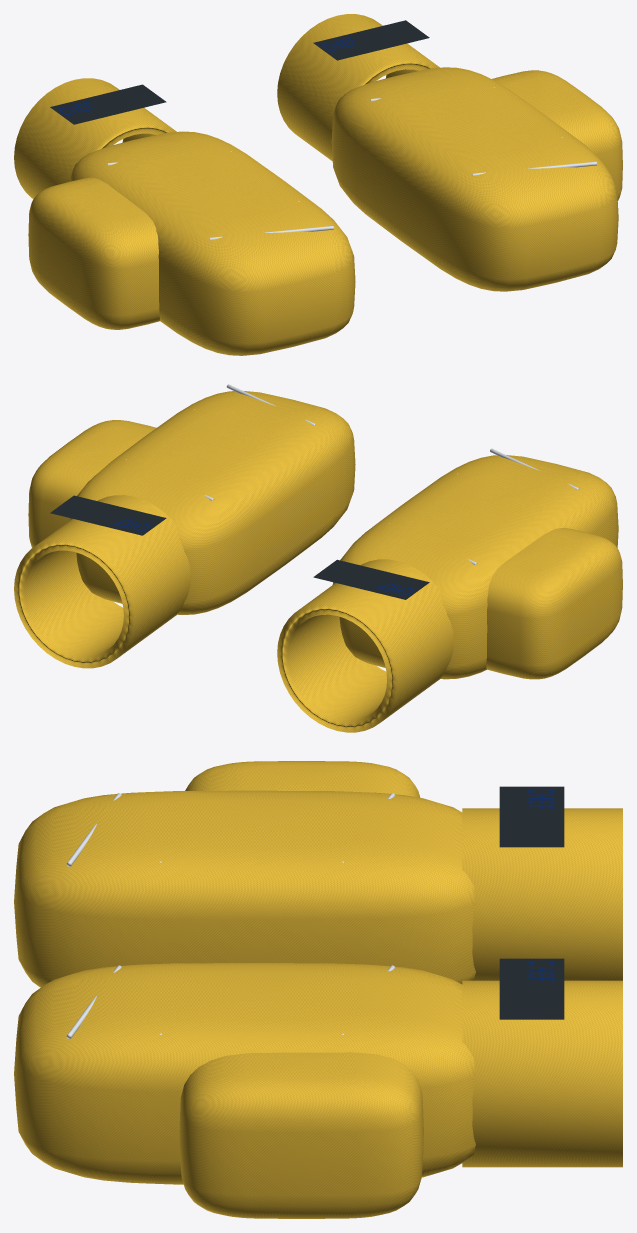
File: oven_mitts.glb
3 renders of one model, top to bottom at view 1: azimuth 30°, elevation 25°; view 2: azimuth 150°, elevation 25°; view 3: azimuth 270°, elevation 25°, orthographic. The views are drawn at different scales.
Visible parts, largest first — view 1: Right_Mitten_Palm, Left_Mitten_Palm, Left_Mitten_Thumb, Right_Cuff, Left_Cuff, Right_Mitten_Thumb, Left_Cuff_Tag, Right_Cuff_Tag; view 2: Right_Mitten_Palm, Left_Mitten_Palm, Right_Cuff, Left_Cuff, Left_Mitten_Thumb, Right_Mitten_Thumb, Left_Cuff_Tag, Right_Cuff_Tag; view 3: Left_Mitten_Palm, Right_Mitten_Palm, Right_Mitten_Thumb, Right_Cuff, Left_Cuff, Left_Mitten_Thumb, Right_Cuff_Tag, Left_Cuff_Tag.
Boxes of the visible parts, left/top/right/bottom form: Right_Mitten_Palm: left=331, top=67, right=618, bottom=291; Left_Mitten_Palm: left=70, top=131, right=355, bottom=355; Left_Mitten_Thumb: left=28, top=177, right=159, bottom=329; Right_Cuff: left=277, top=14, right=439, bottom=160; Left_Cuff: left=14, top=78, right=176, bottom=198; Right_Mitten_Thumb: left=492, top=70, right=622, bottom=200; Left_Cuff_Tag: left=50, top=84, right=166, bottom=124; Right_Cuff_Tag: left=313, top=20, right=429, bottom=60; Right_Mitten_Palm: left=69, top=391, right=355, bottom=614; Left_Mitten_Palm: left=332, top=455, right=618, bottom=679; Right_Cuff: left=14, top=495, right=190, bottom=668; Left_Cuff: left=277, top=559, right=453, bottom=732; Left_Mitten_Thumb: left=486, top=527, right=622, bottom=679; Right_Mitten_Thumb: left=28, top=420, right=156, bottom=547; Left_Cuff_Tag: left=313, top=559, right=429, bottom=599; Right_Cuff_Tag: left=50, top=495, right=166, bottom=535; Left_Mitten_Palm: left=14, top=790, right=475, bottom=987; Right_Mitten_Palm: left=14, top=963, right=475, bottom=1184; Right_Mitten_Thumb: left=179, top=1052, right=423, bottom=1218; Right_Cuff: left=462, top=980, right=622, bottom=1167; Left_Cuff: left=462, top=808, right=622, bottom=980; Left_Mitten_Thumb: left=185, top=761, right=420, bottom=797; Right_Cuff_Tag: left=499, top=958, right=564, bottom=1019; Left_Cuff_Tag: left=499, top=786, right=564, bottom=847.
Bounding box in the file's own units: 0.344 × 0.078 × 0.254.
Materials: 4 (3 with a texture image).
